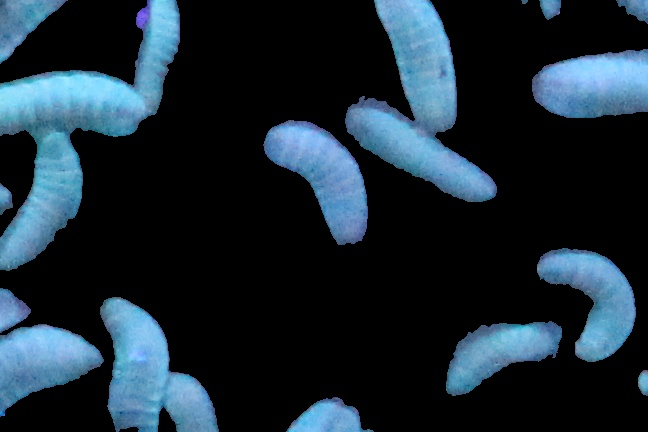larvae: (337, 102, 505, 211), (257, 125, 385, 251), (537, 245, 645, 362), (368, 1, 465, 131), (1, 134, 79, 267), (1, 68, 144, 135), (434, 328, 562, 400), (103, 299, 168, 432), (1, 322, 103, 405), (530, 51, 648, 121), (134, 1, 185, 111), (1, 1, 67, 59), (165, 369, 221, 432)
